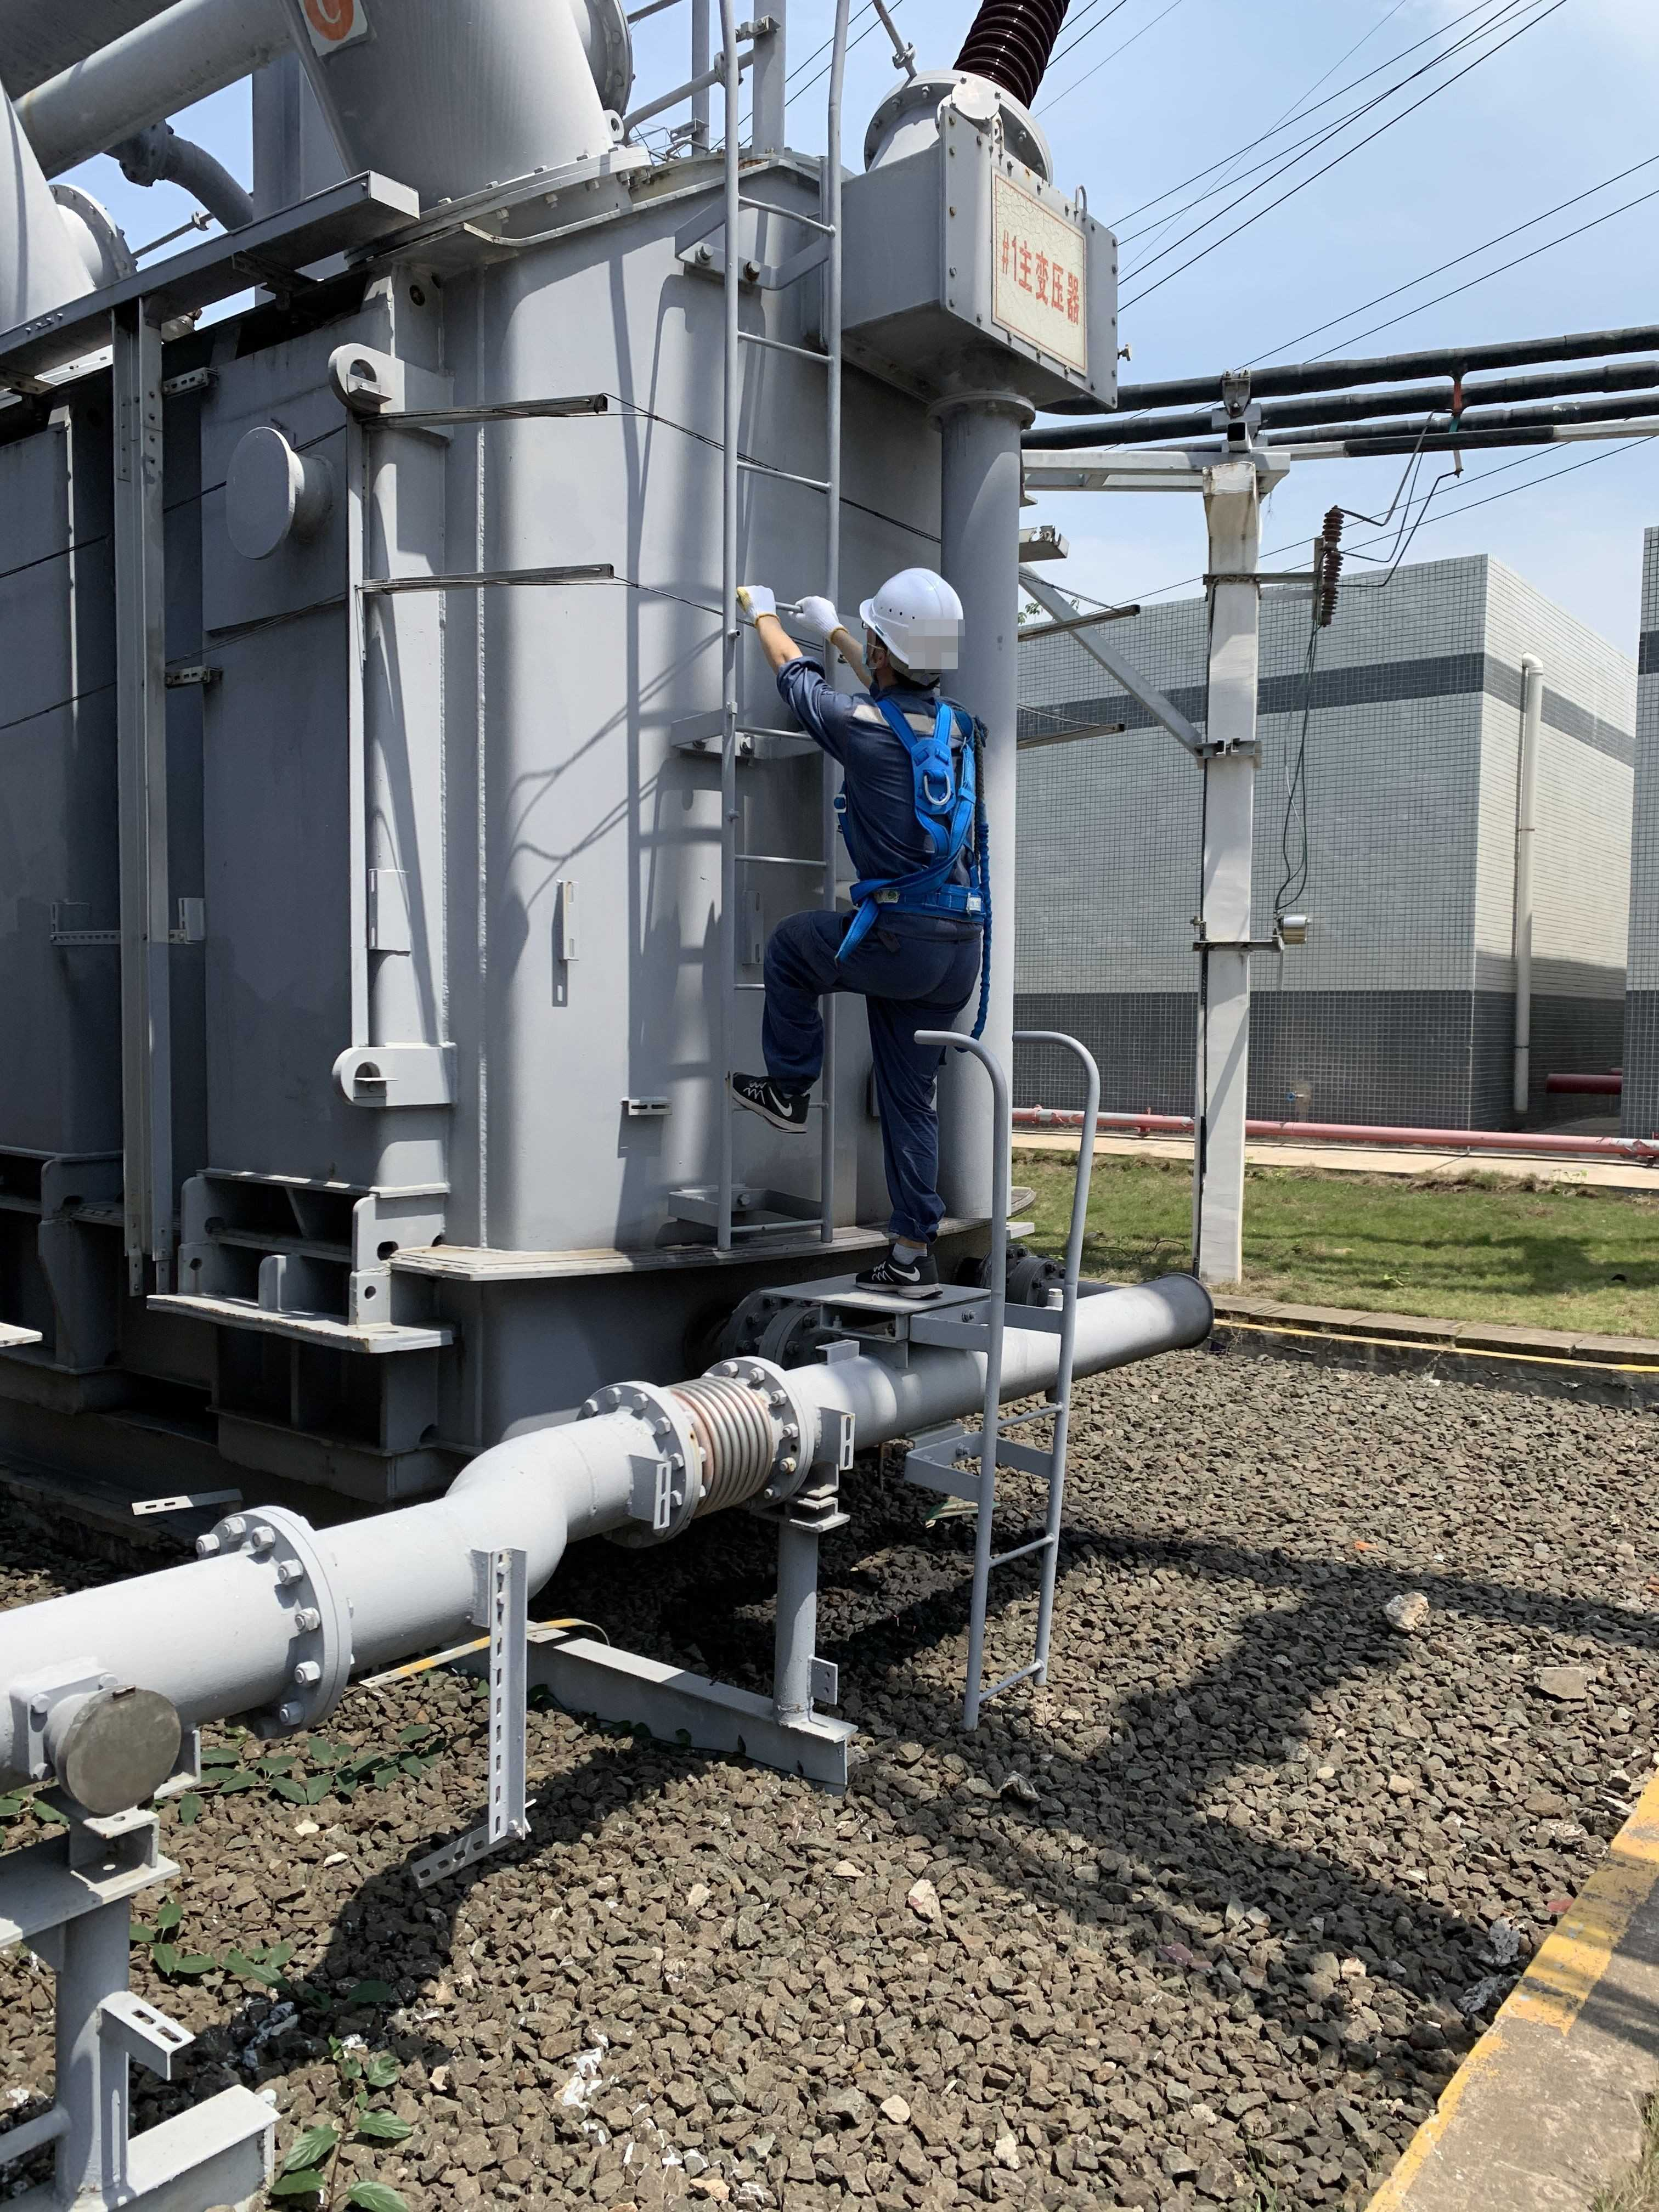downsuit: (760, 914, 979, 1254)
upsuit: (770, 676, 997, 914)
wrongtop: (756, 620, 817, 711)
